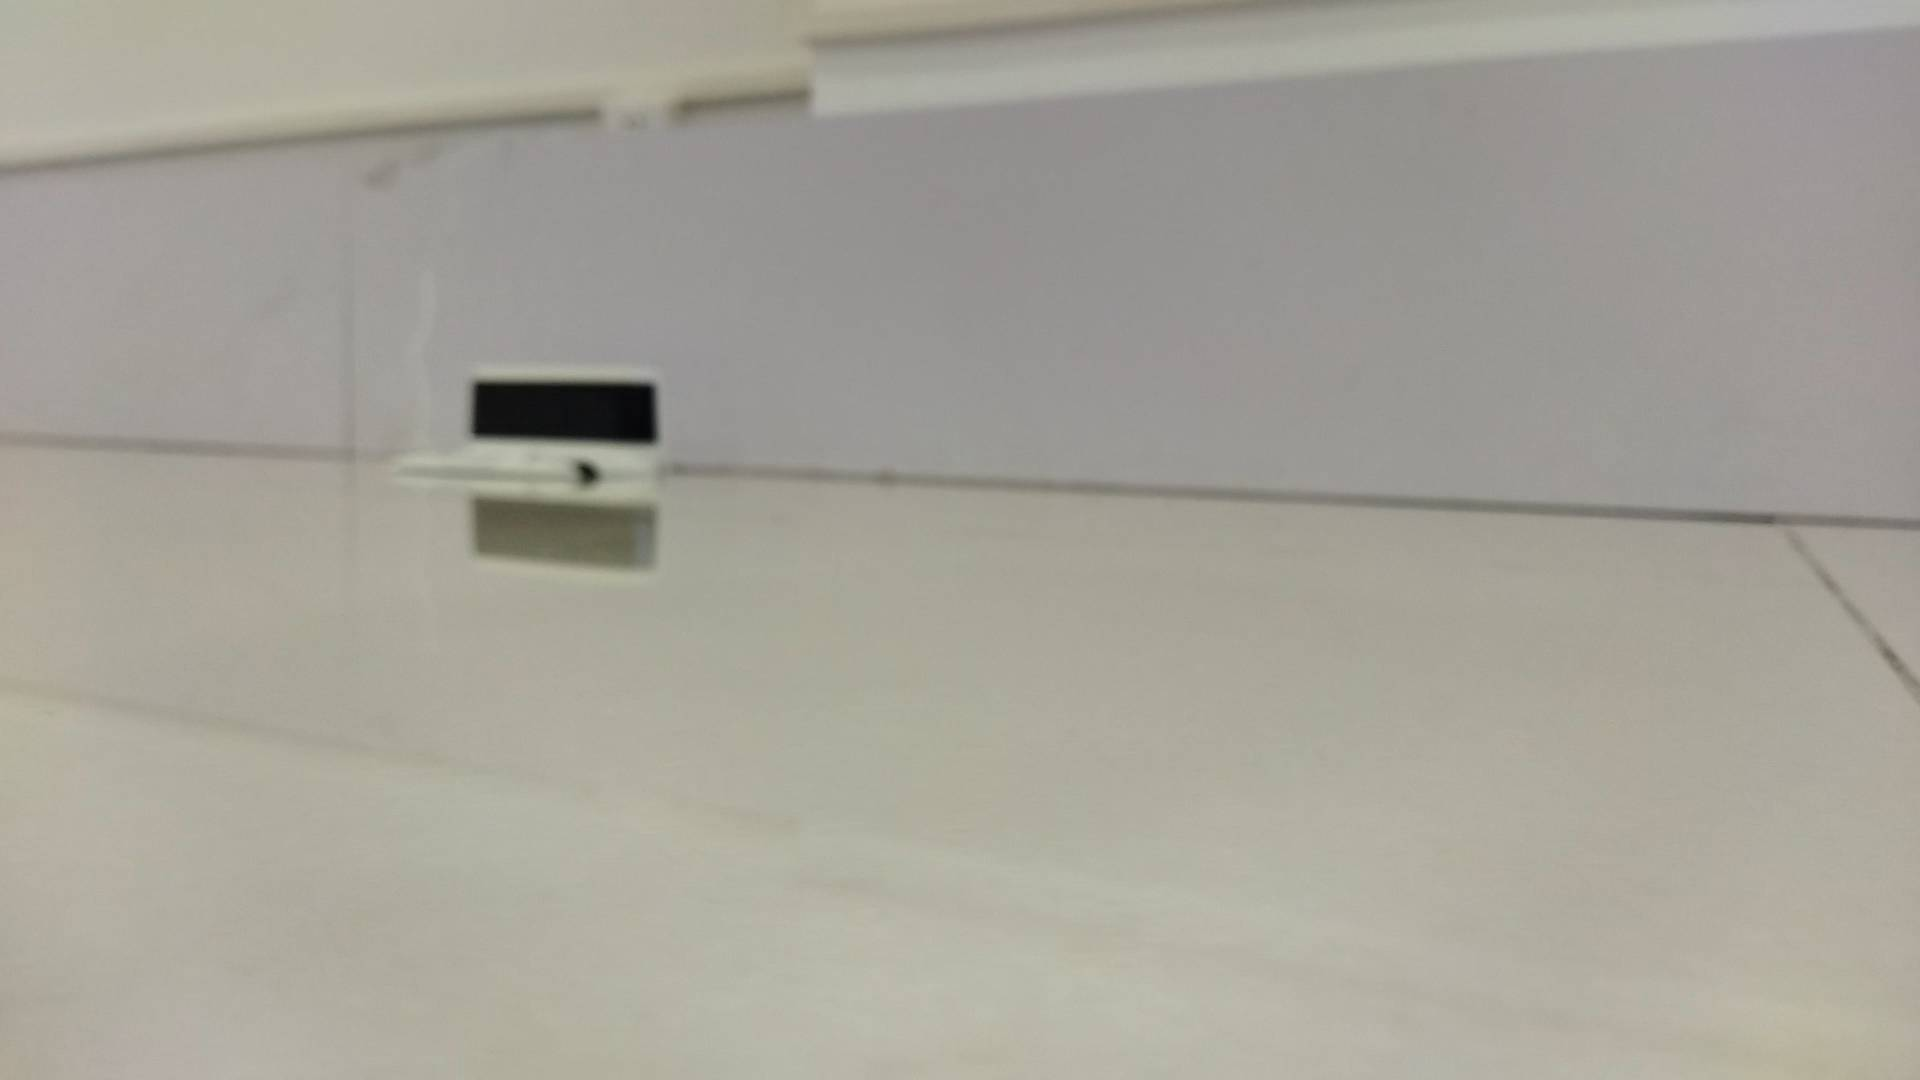recharge seat: (394, 363, 667, 487)
